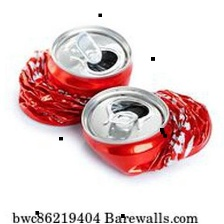can: (77, 78, 218, 179), (13, 21, 138, 131)
